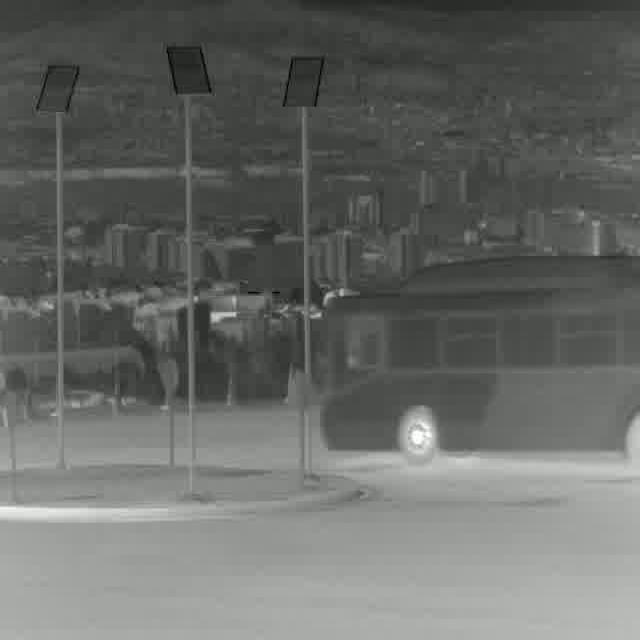Bus: (322, 254, 640, 458)
